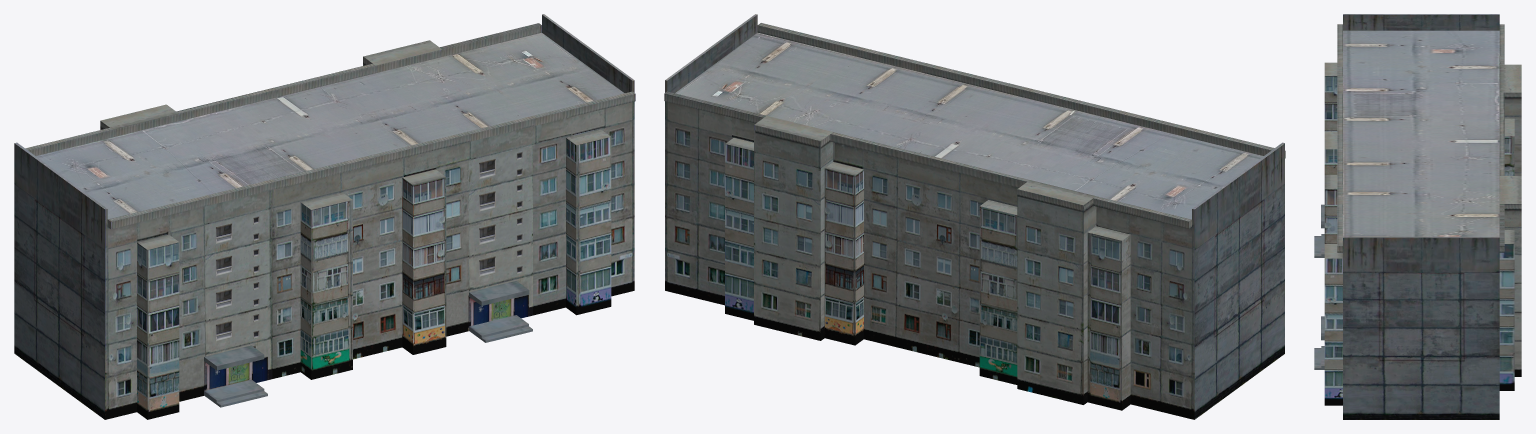
The model's file is house_1.glb.
3 views of the same model, side by side, from view 1: azimuth 30°, elevation 25°; view 2: azimuth 150°, elevation 25°; view 3: azimuth 270°, elevation 25° (orthographic). The views are drawn at different scales.
Visible parts, largest first — view 1: Cube.002, Cube.003; view 2: Cube.002; view 3: Cube.002, Cube.003.
Part boxes in pixels (bbox=[...]): Cube.002: bbox=[14, 14, 635, 419]; Cube.003: bbox=[204, 281, 532, 407]; Cube.002: bbox=[664, 14, 1285, 419]; Cube.002: bbox=[1324, 14, 1521, 419]; Cube.003: bbox=[1314, 204, 1324, 369].
Size of the model in its own units: 48.62 by 18.47 by 19.02.
Materials: 1 (1 with a texture image).
